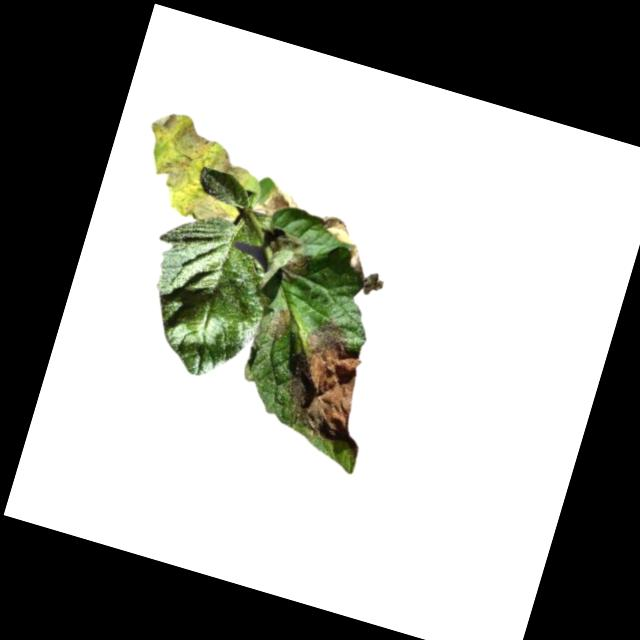Late_blight: (129, 106, 269, 234), (275, 311, 394, 452), (251, 180, 303, 225), (274, 249, 317, 289), (264, 301, 296, 348), (318, 212, 358, 246), (344, 244, 371, 278), (359, 271, 387, 299)
healthy: (125, 202, 284, 388)
